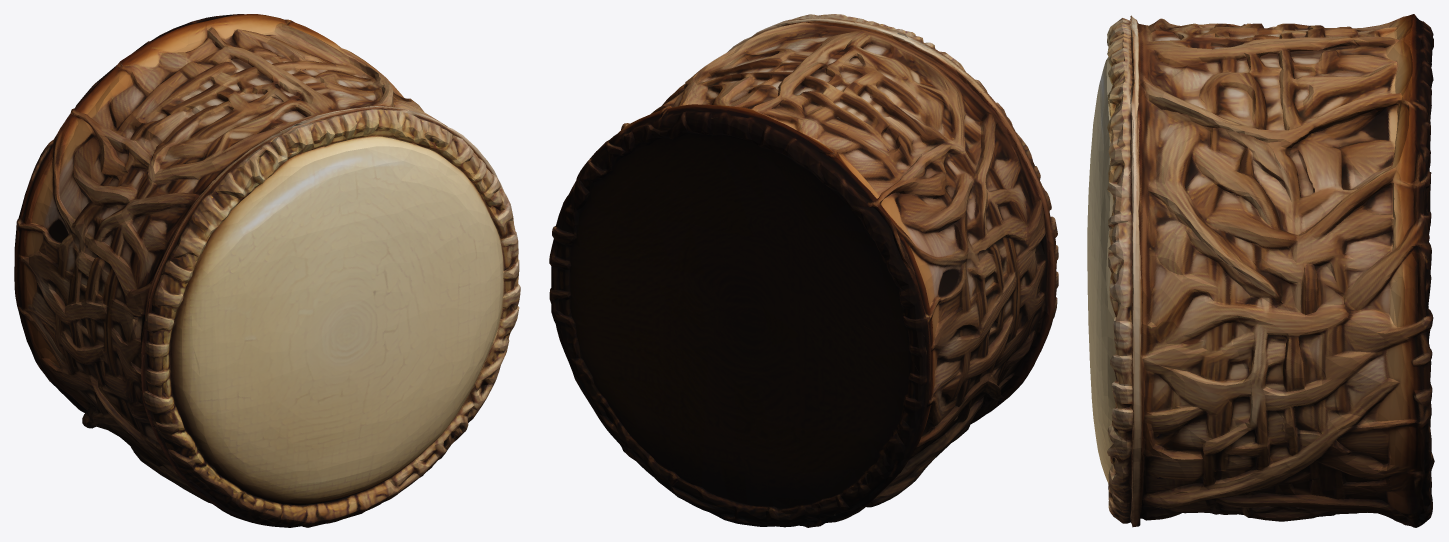
File: woven-basket-drum-3d.jpeg.glb
3 views of the same model, side by side, from view 1: azimuth 30°, elevation 25°; view 2: azimuth 150°, elevation 25°; view 3: azimuth 270°, elevation 25° (orthographic). The views are drawn at different scales.
Parts seen in each view (by area): view 1: world; view 2: world; view 3: world.
Part boxes in pixels (bbox=[...]): world: bbox=[14, 14, 520, 527]; world: bbox=[549, 14, 1058, 527]; world: bbox=[1087, 14, 1434, 527].
Bounding box in the file's own units: 0.9734 × 0.9995 × 0.6783.
Materials: 1 (1 with a texture image).
